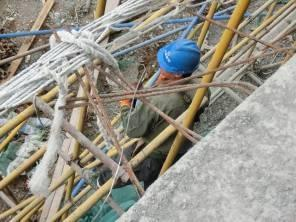helmet: (157, 38, 202, 76)
